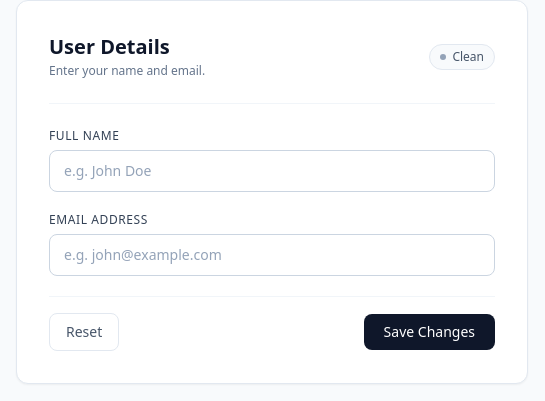
Test case: UnsavedChangesForm › resets form when reset button is clicked
Type "Alice" into the field labelled "Full Name". click: (272, 171)
box: x1=49 y1=150 x2=495 y2=192
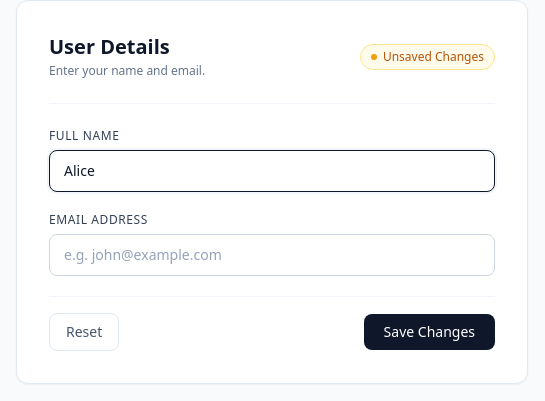
Click the button "Reset". click: (84, 332)
box: x1=49 y1=313 x2=119 y2=351
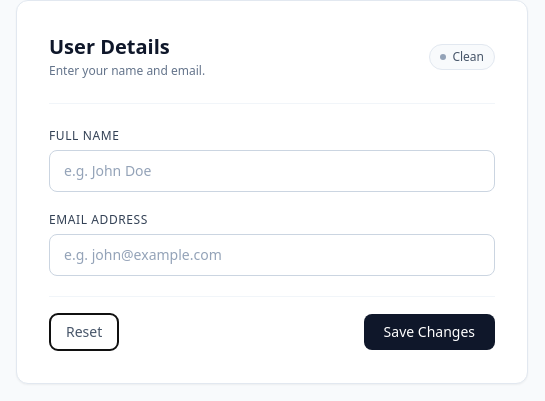
Result: the field labelled "Full Name" is empty at x1=49 y1=150 x2=495 y2=192
Result: the text "Clean" is shown at x1=429 y1=44 x2=495 y2=70
